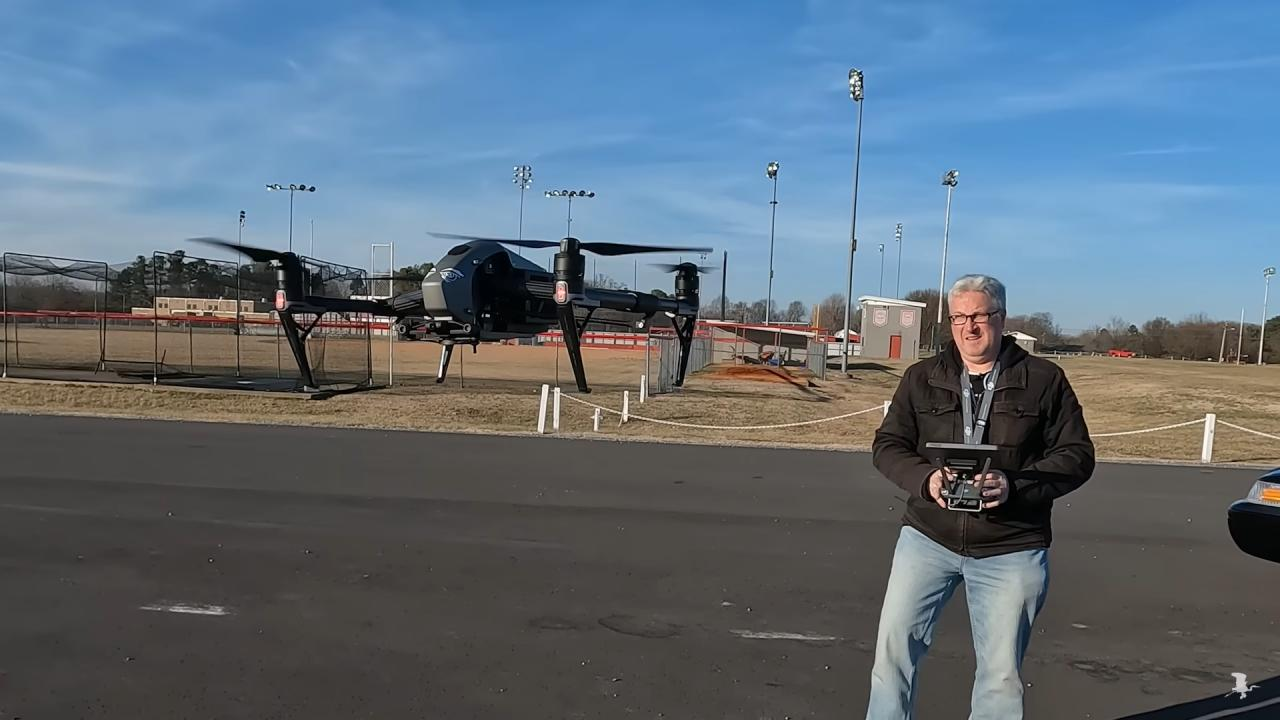Drone: (171, 219, 728, 401)
